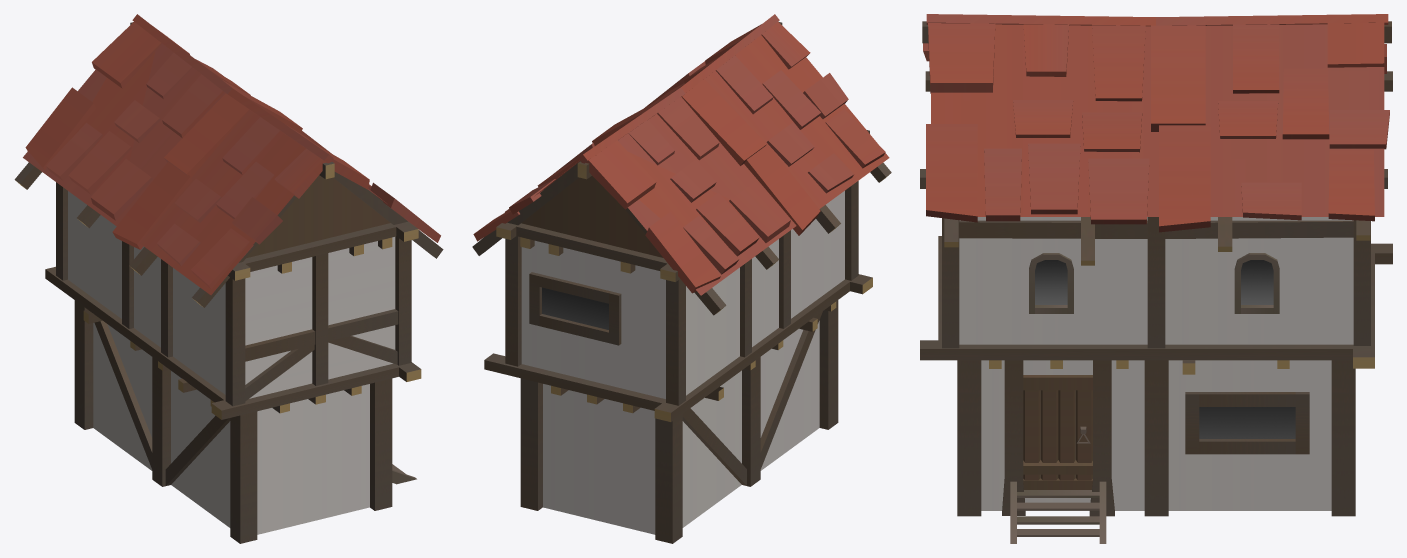
Rendered from House_1.fbx.
The picture shows the model from 3 angles, left to right: view 1: azimuth 30°, elevation 25°; view 2: azimuth 150°, elevation 25°; view 3: azimuth 270°, elevation 25°; orthographic projection. The views are drawn at different scales.
Visible parts, largest first — view 1: polySurface9610; view 2: polySurface9610; view 3: polySurface9610.
Boxes of the visible parts, x1=… form: polySurface9610: x1=14, y1=14, x2=443, y2=543; polySurface9610: x1=472, y1=14, x2=891, y2=543; polySurface9610: x1=920, y1=14, x2=1392, y2=543.
Bounding box in the file's own units: 585 × 809 × 758.
